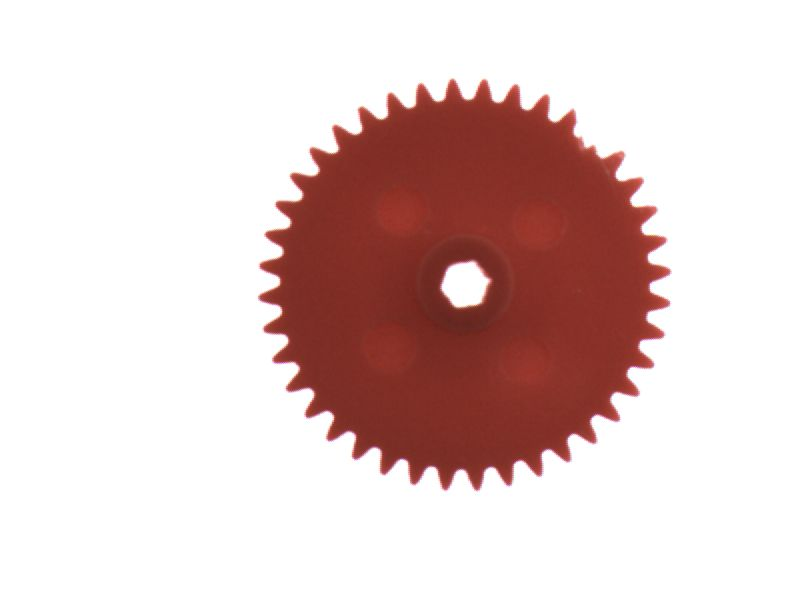defect_lack: (565, 103, 637, 163)
